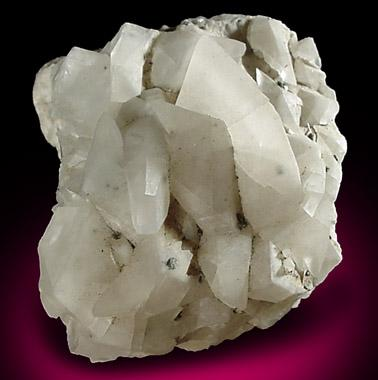calcite: (33, 16, 348, 363)
